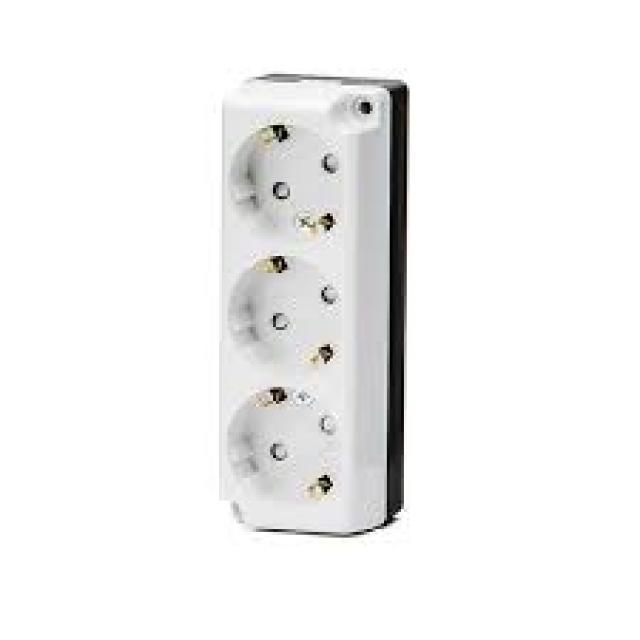typeb: (203, 36, 432, 566)
